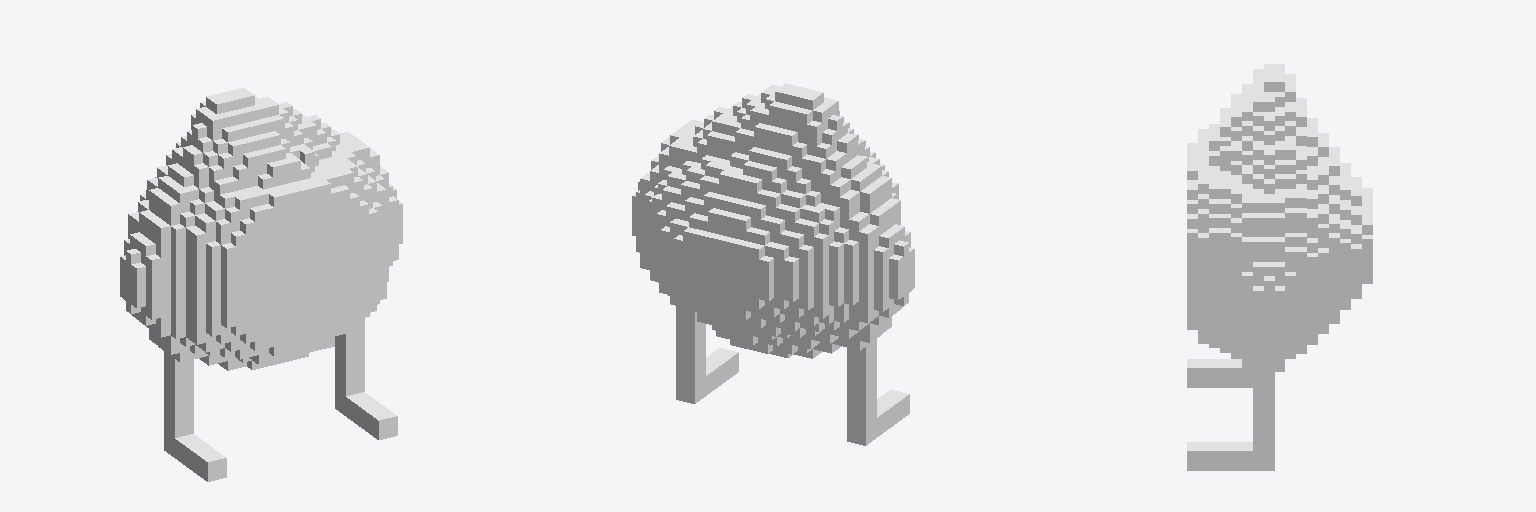
The model's file is dia.obj.
The picture shows the model from 3 angles: view 1: azimuth 30°, elevation 25°; view 2: azimuth 150°, elevation 25°; view 3: azimuth 270°, elevation 25°; orthographic projection.
Parts seen in each view (by area): view 1: object 1; view 2: object 1; view 3: object 1.
Boxes of the visible parts, x1,y1,x2,y2 form: object 1: [120, 87, 402, 481]; object 1: [632, 83, 914, 445]; object 1: [1187, 64, 1372, 470].
Size of the model in its own units: 2.8 by 3.4 by 1.7.